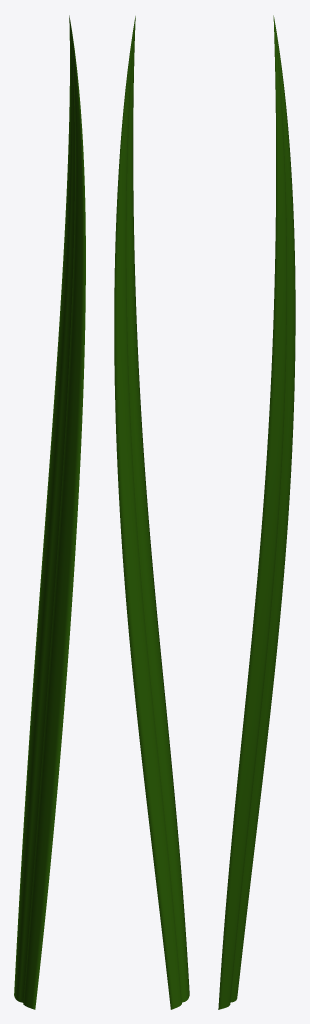
3 views of the same model, side by side, from view 1: azimuth 30°, elevation 25°; view 2: azimuth 150°, elevation 25°; view 3: azimuth 330°, elevation 25° (orthographic). The views are drawn at different scales.
Parts seen in each view (by area): view 1: ТраекторияNurbs.018; view 2: ТраекторияNurbs.018; view 3: ТраекторияNurbs.018.
Part boxes in pixels (x1,y1,x2,y2): ТраекторияNurbs.018: (14,15,85,1009); ТраекторияNurbs.018: (114,16,189,1009); ТраекторияNurbs.018: (218,15,295,1009).
Bounding box in the file's own units: 20.69 × 315 × 18.36.
